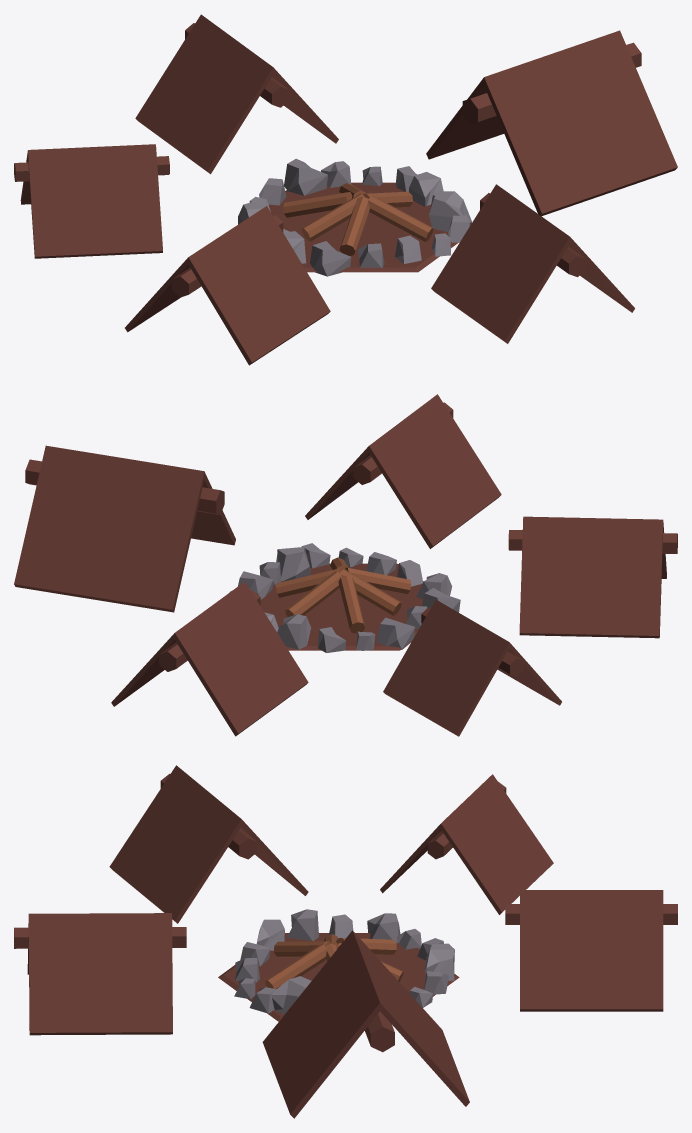
The model's file is Village.fbx.
The picture shows the model from 3 angles, top to bottom: view 1: azimuth 30°, elevation 25°; view 2: azimuth 150°, elevation 25°; view 3: azimuth 270°, elevation 25°; orthographic projection. The views are drawn at different scales.
Parts seen in each view (by area): view 1: Village; view 2: Village; view 3: Village.
Boxes of the visible parts, <box> form: Village: <box>14,14,677,365</box>; Village: <box>14,394,677,736</box>; Village: <box>14,765,677,1118</box>.
Bounding box in the file's own units: 0.891 × 0.1672 × 0.8892.
